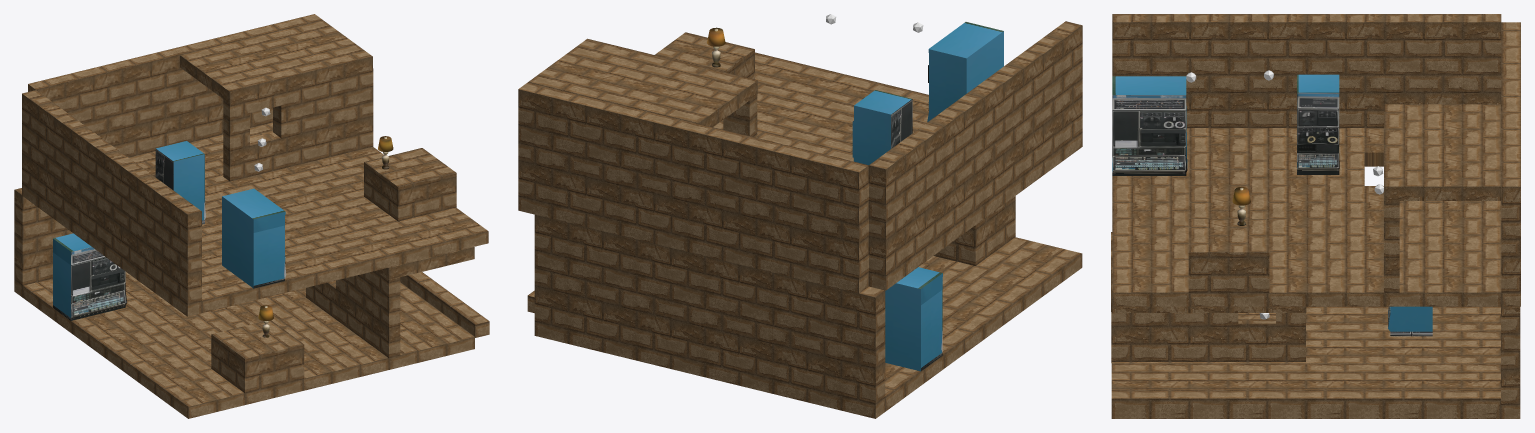
The picture shows the model from 3 angles, left to right: view 1: azimuth 30°, elevation 25°; view 2: azimuth 150°, elevation 25°; view 3: azimuth 270°, elevation 25°; orthographic projection. The views are drawn at different scales.
Parts seen in each view (by area): view 1: Wall.002, Floor.004, Floor.001, Wall.001, Window, Roof, Floor.003, Floor.006, Floor.005, PDP10-1, Floor.002, Window.001 (+5 smaller); view 2: Wall.001, Wall.004, Wall.002, Roof, Floor.004, Floor.001, PDP10-1.001, PDP10-1, PDP10-2, Floor.006, Floor.005, Floor.002 (+2 smaller); view 3: Wall.002, Floor.001, Floor.003, Floor.006, Roof, Wall.003, Window.001, PDP10-1, Floor.004, Floor.002, Wall.001, PDP10-2 (+5 smaller).
Part boxes in pixels (bbox=[...]): Wall.002: bbox=[22, 90, 201, 316]; Floor.004: bbox=[105, 282, 474, 418]; Floor.001: bbox=[190, 122, 488, 277]; Wall.001: bbox=[28, 14, 322, 157]; Window: bbox=[223, 68, 373, 181]; Roof: bbox=[180, 20, 372, 103]; Floor.003: bbox=[129, 151, 345, 312]; Floor.006: bbox=[22, 272, 305, 357]; Floor.005: bbox=[211, 320, 304, 397]; PDP10-1: bbox=[222, 188, 286, 288]; Floor.002: bbox=[364, 148, 456, 221]; Window.001: bbox=[306, 271, 400, 359]; Wall.001: bbox=[518, 82, 868, 293]; Wall.004: bbox=[534, 214, 885, 418]; Wall.002: bbox=[869, 21, 1082, 290]; Roof: bbox=[528, 38, 757, 126]; Floor.004: bbox=[919, 237, 1082, 339]; Floor.001: bbox=[713, 52, 894, 150]; PDP10-1.001: bbox=[885, 267, 942, 371]; PDP10-1: bbox=[927, 22, 1003, 121]; PDP10-2: bbox=[852, 90, 912, 165]; Floor.006: bbox=[885, 315, 983, 411]; Floor.005: bbox=[934, 196, 1015, 265]; Floor.002: bbox=[655, 32, 754, 79]; Wall.002: bbox=[1112, 14, 1501, 127]; Floor.001: bbox=[1112, 210, 1501, 306]; Floor.003: bbox=[1112, 128, 1501, 210]; Floor.006: bbox=[1306, 306, 1500, 418]; Roof: bbox=[1384, 104, 1500, 200]; Wall.003: bbox=[1111, 390, 1500, 414]; Window.001: bbox=[1111, 264, 1305, 362]; PDP10-1: bbox=[1112, 76, 1187, 175]; Floor.004: bbox=[1111, 313, 1306, 418]; Floor.002: bbox=[1188, 219, 1269, 298]; Wall.001: bbox=[1501, 22, 1520, 306]; PDP10-2: bbox=[1297, 74, 1339, 174].
Bounding box in the file's own units: 10.52 × 7.57 × 10.53.
Materials: 3 (3 with a texture image).
